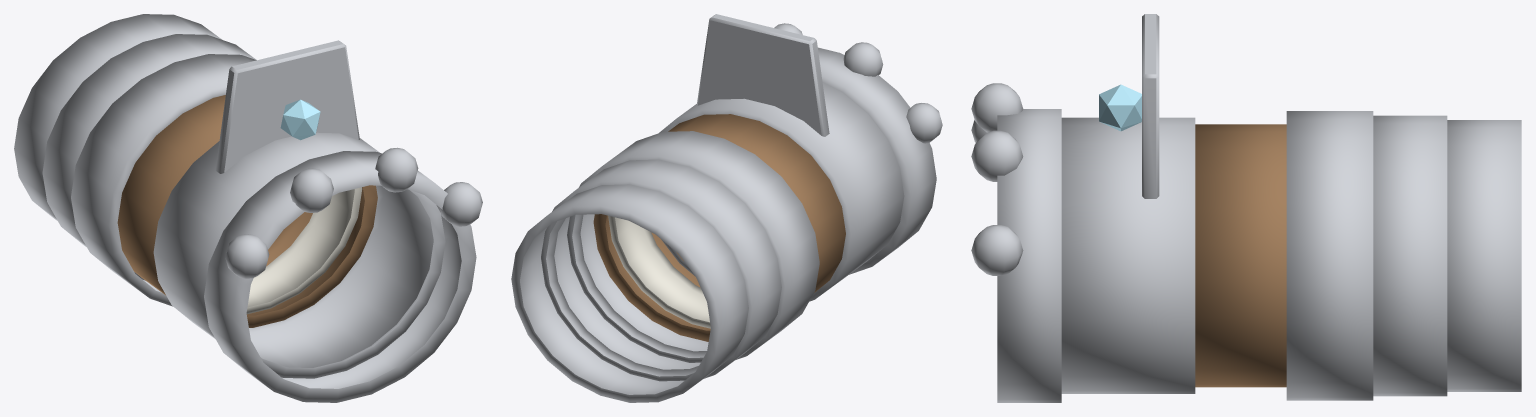
Rendered from w_faust_stahl.glb.
The picture shows the model from 3 angles, left to right: view 1: azimuth 30°, elevation 25°; view 2: azimuth 150°, elevation 25°; view 3: azimuth 270°, elevation 25°; orthographic projection. The views are drawn at different scales.
Parts seen in each view (by area): view 1: G_w_faust_stahl; view 2: G_w_faust_stahl; view 3: G_w_faust_stahl.
Boxes of the visible parts, x1,y1,x2,y2 form: G_w_faust_stahl: (14,14,482,402); G_w_faust_stahl: (511,14,942,402); G_w_faust_stahl: (971,14,1521,402).
Bounding box in the file's own units: 0.1352 × 0.152 × 0.2225.
